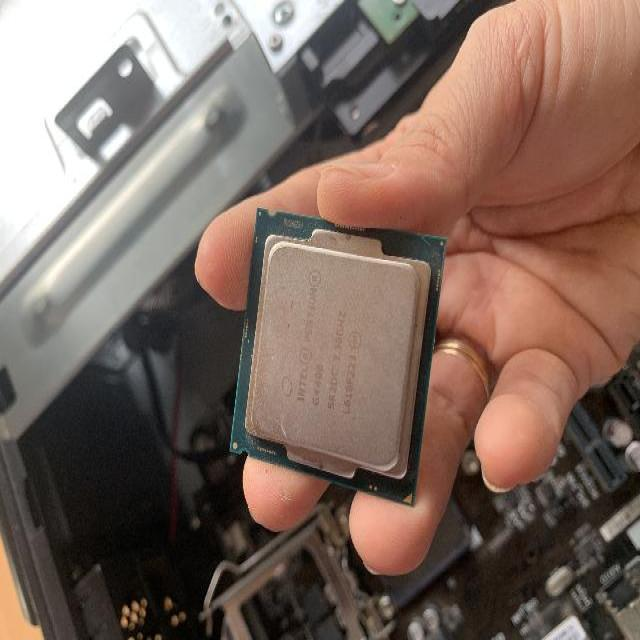CPU: (228, 205, 448, 504)
